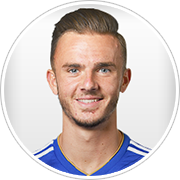face: (45, 36, 133, 126)
